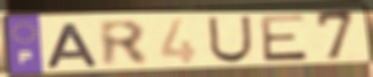4: (157, 16, 199, 66)
7: (314, 10, 359, 64)
A: (44, 21, 103, 70)
E: (257, 12, 310, 63)
R: (96, 19, 153, 69)
U: (206, 14, 254, 65)
